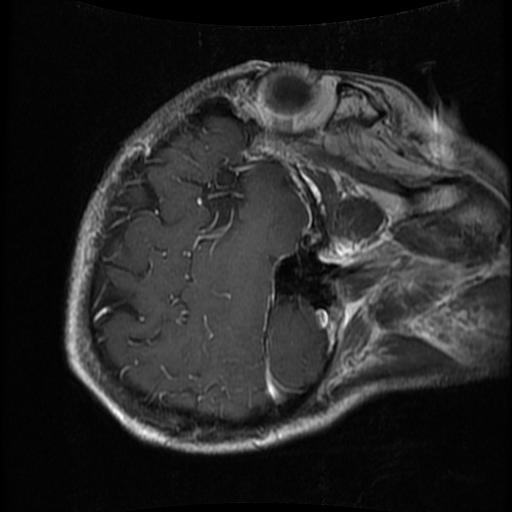glioma: (201, 165, 245, 227)
